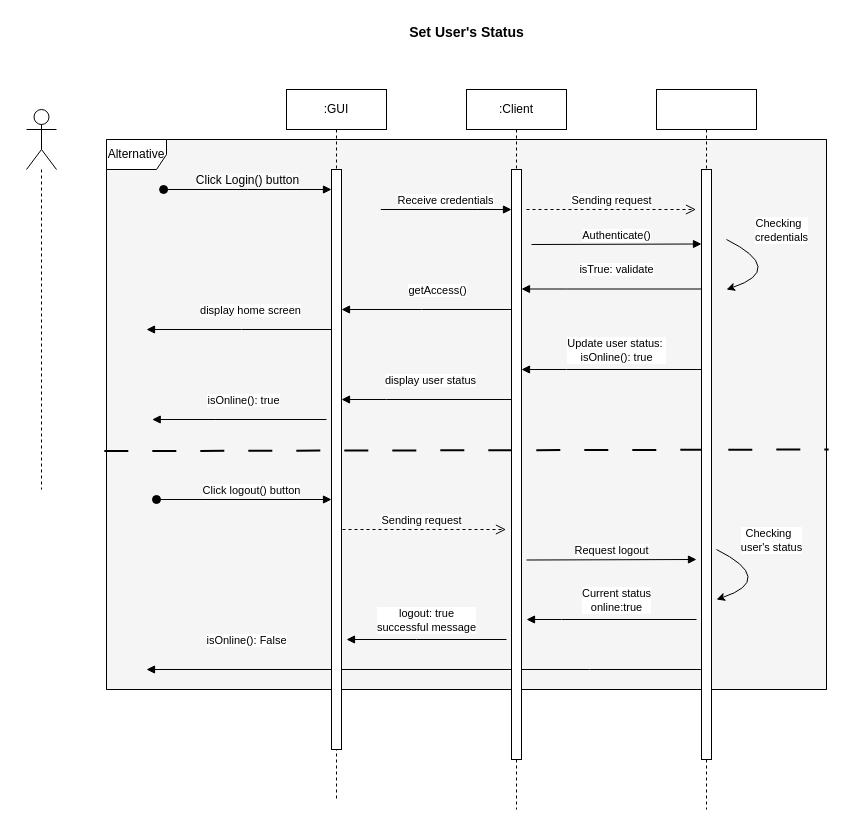
This 848x827 diagram has some shape labels left out. Each missing label, with the box of its shape:
:Server: (656, 88, 756, 810)
All Users: (26, 108, 56, 170)
